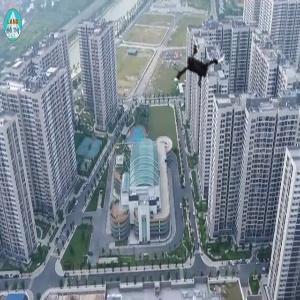drone: (164, 33, 231, 100)
